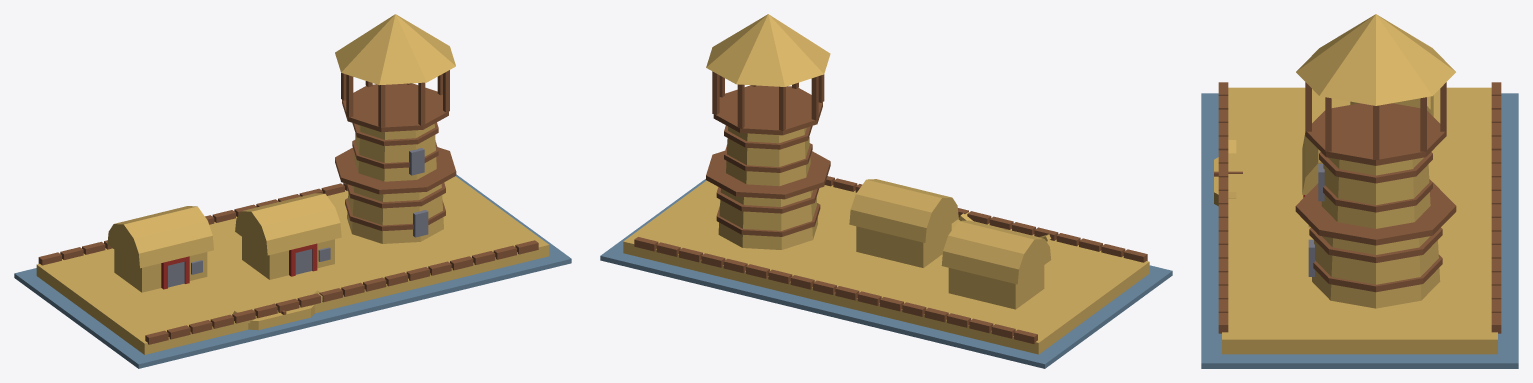
The model's file is house-2x1-2f-totora-a.glb.
The picture shows the model from 3 angles, left to right: view 1: azimuth 30°, elevation 25°; view 2: azimuth 150°, elevation 25°; view 3: azimuth 270°, elevation 25°; orthographic projection. The views are drawn at different scales.
Parts seen in each view (by area): view 1: house-2x1-2f-totora-a; view 2: house-2x1-2f-totora-a; view 3: house-2x1-2f-totora-a.
Part boxes in pixels (bbox=[...]): house-2x1-2f-totora-a: bbox=[14, 14, 571, 368]; house-2x1-2f-totora-a: bbox=[600, 14, 1172, 368]; house-2x1-2f-totora-a: bbox=[1201, 14, 1518, 368].
Bounding box in the file's own units: 1.99 × 0.99 × 0.99.
1 material, 1 textured.
